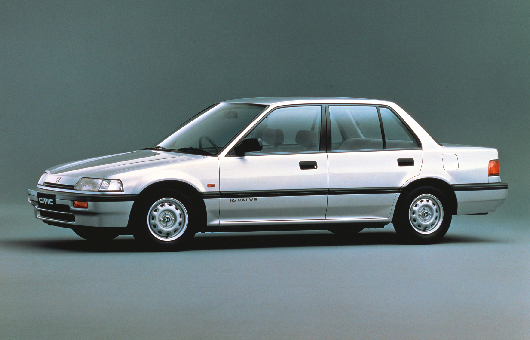sedan: (24, 94, 512, 252)
